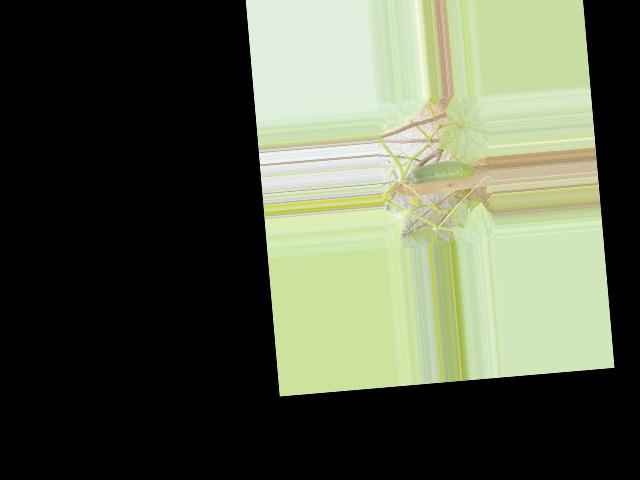cucumber: (408, 159, 475, 185)
